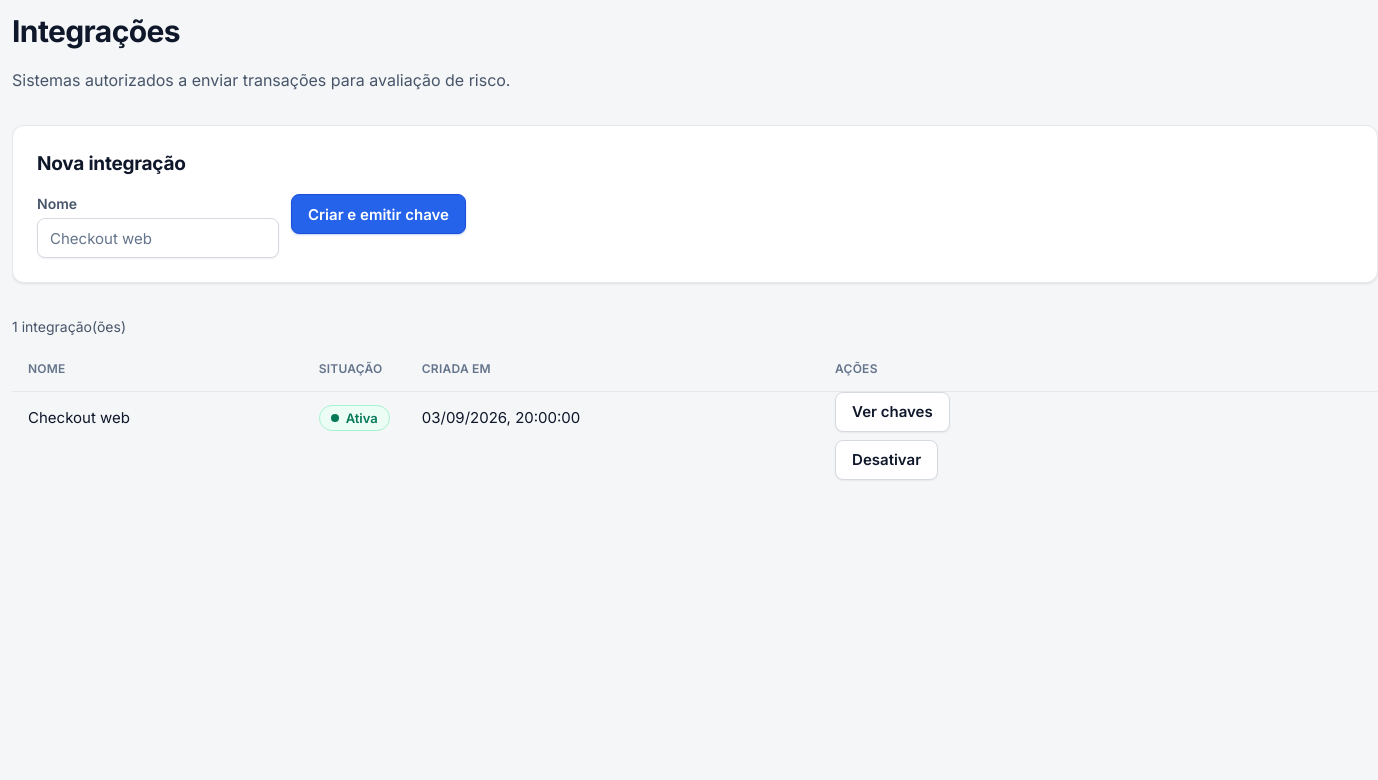
Test case: PaginaDeIntegracoes › mostra o erro quando a criação falha
The width and height of the screenshot is (1378, 780).
Expected: the column heading "Checkout web" is shown, [12,391,303,444]
Type "x" into the field labelled "Nome" at (158, 238), box [37,218,279,258]
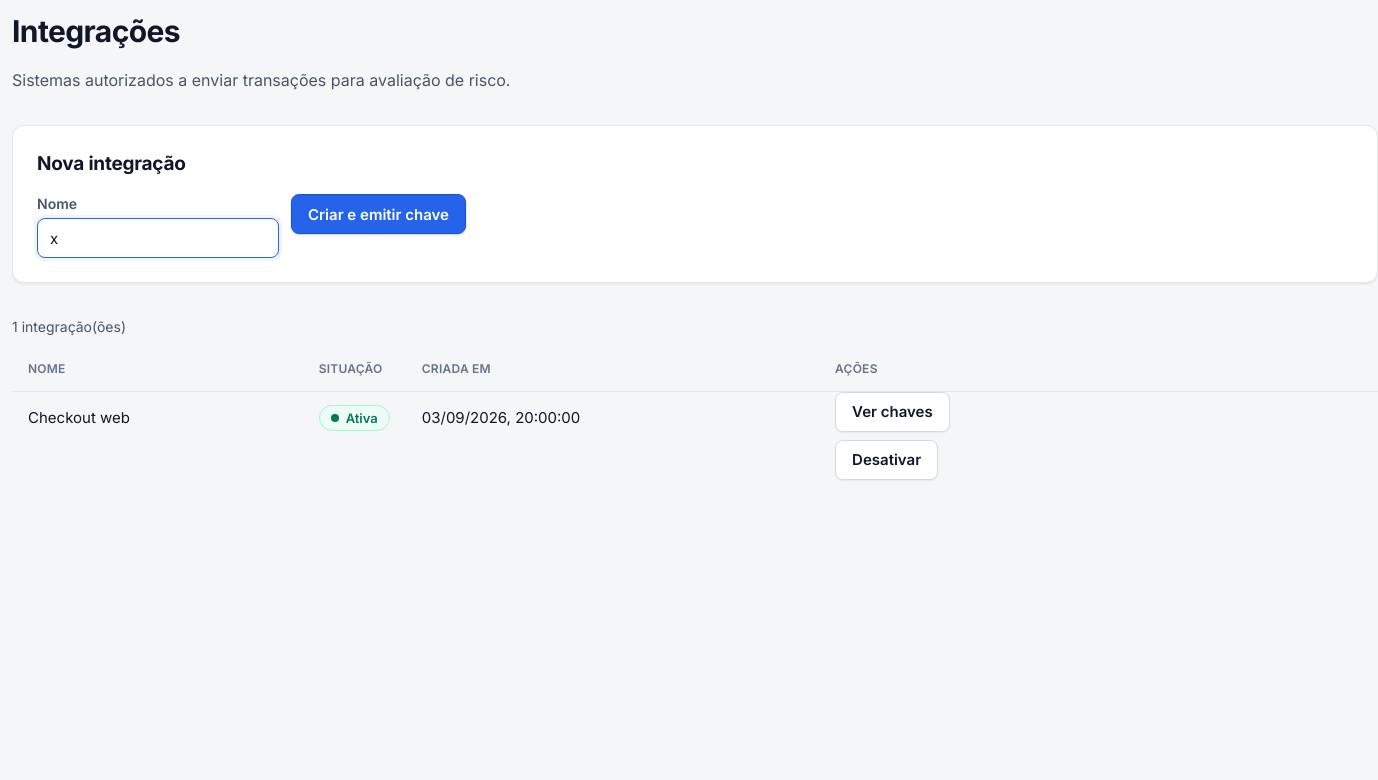
Click the button "Criar e emitir chave" at (378, 214), box [291,194,466,234]
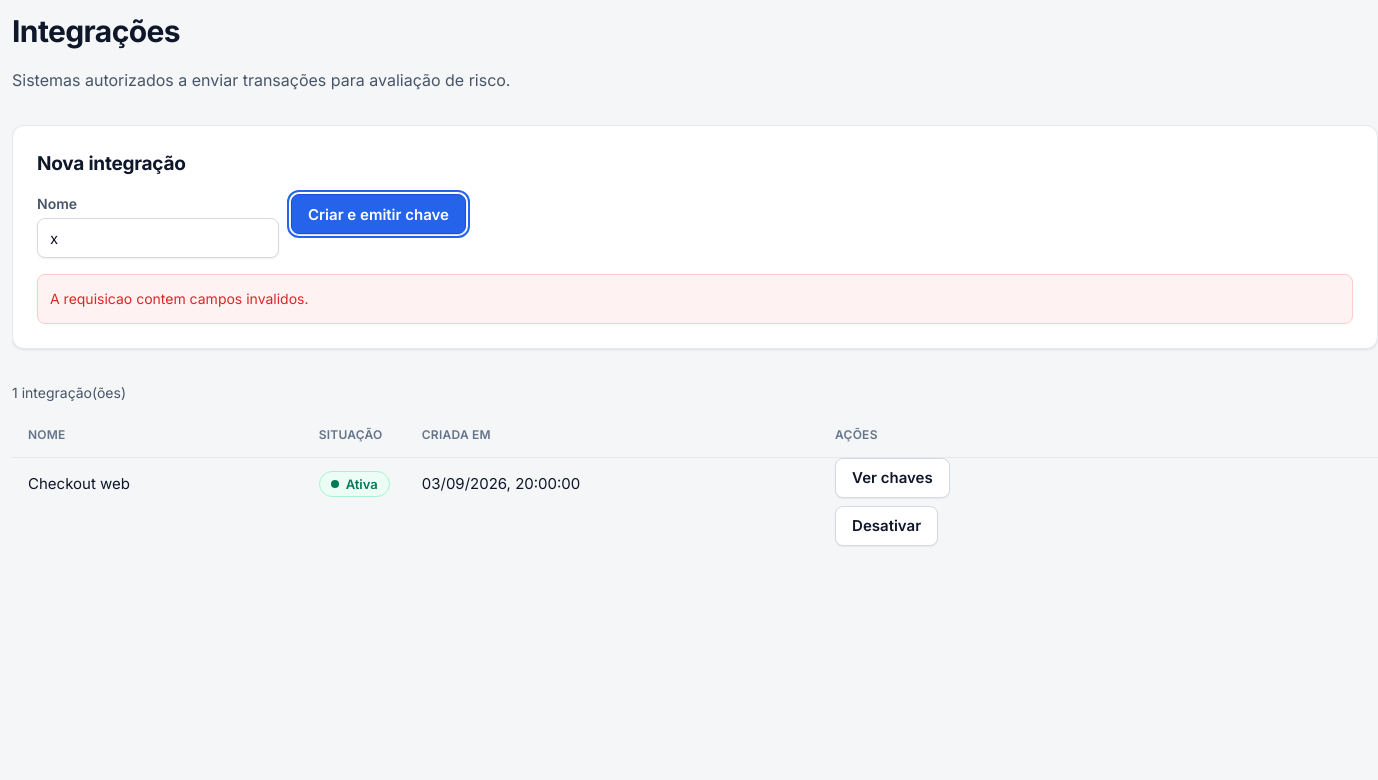
Now the message shows "invalidos", box [50,290,308,307]
